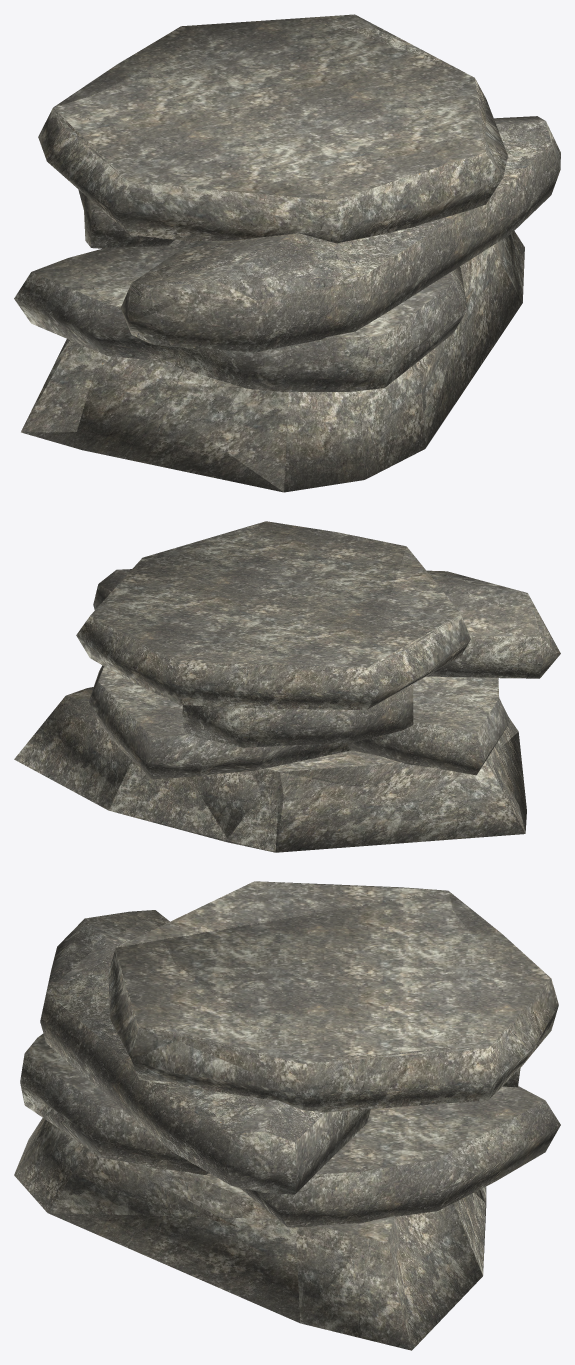
The model's file is Custom_Model_29e958-transformed.glb.
3 renders of one model, top to bottom at view 1: azimuth 30°, elevation 25°; view 2: azimuth 150°, elevation 25°; view 3: azimuth 270°, elevation 25°, orthographic. The views are drawn at different scales.
Parts seen in each view (by area): view 1: Untitled_CubeRockTwo300, Untitled.001_CubeRockTwo200; view 2: Untitled_CubeRockTwo300, Untitled.001_CubeRockTwo200; view 3: Untitled.001_CubeRockTwo200, Untitled_CubeRockTwo300.
Boxes of the visible parts, box(x1,y1,x2,y2) form: Untitled_CubeRockTwo300: box(14, 14, 560, 492); Untitled.001_CubeRockTwo200: box(14, 14, 524, 492); Untitled_CubeRockTwo300: box(66, 521, 560, 852); Untitled.001_CubeRockTwo200: box(14, 523, 560, 852); Untitled.001_CubeRockTwo200: box(14, 881, 551, 1350); Untitled_CubeRockTwo300: box(14, 881, 560, 1322).
Size of what is drawn, in the model's own units: 9.98 by 4.04 by 8.29.
Materials: 1 (1 with a texture image).
